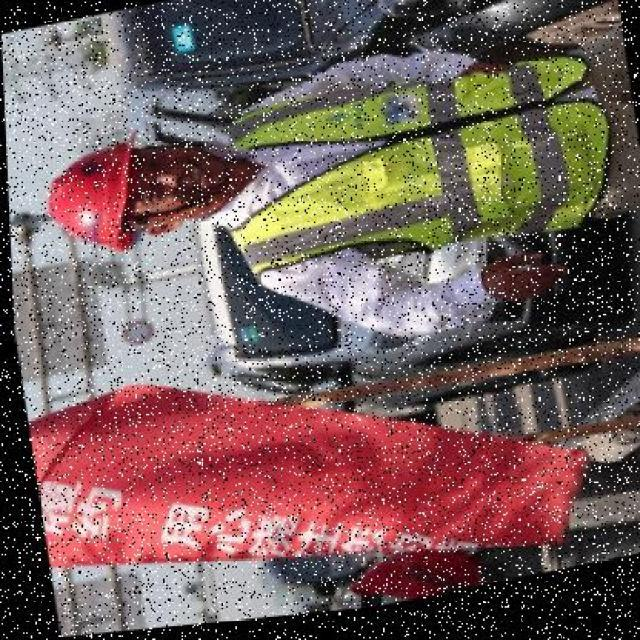helmet: (25, 119, 163, 273)
vest: (206, 39, 617, 302)
